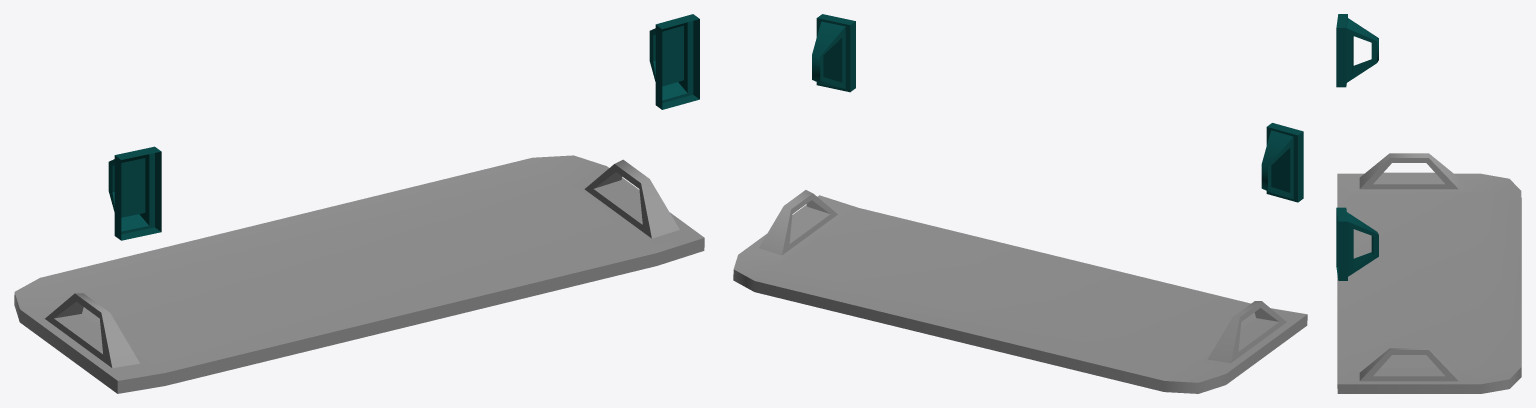
File: Hea_Ba_Hanging_Shelf.fbx
The picture shows the model from 3 angles, left to right: view 1: azimuth 30°, elevation 25°; view 2: azimuth 150°, elevation 25°; view 3: azimuth 270°, elevation 25°; orthographic projection. The views are drawn at different scales.
Visible parts, largest first — view 1: Shelf_Toilet; view 2: Shelf_Toilet; view 3: Shelf_Toilet.
Boxes of the visible parts, x1,y1,x2,y2 form: Shelf_Toilet: [14, 14, 704, 393]; Shelf_Toilet: [733, 14, 1307, 393]; Shelf_Toilet: [1336, 14, 1521, 393].
Bounding box in the file's own units: 146 × 56.26 × 54.38.
